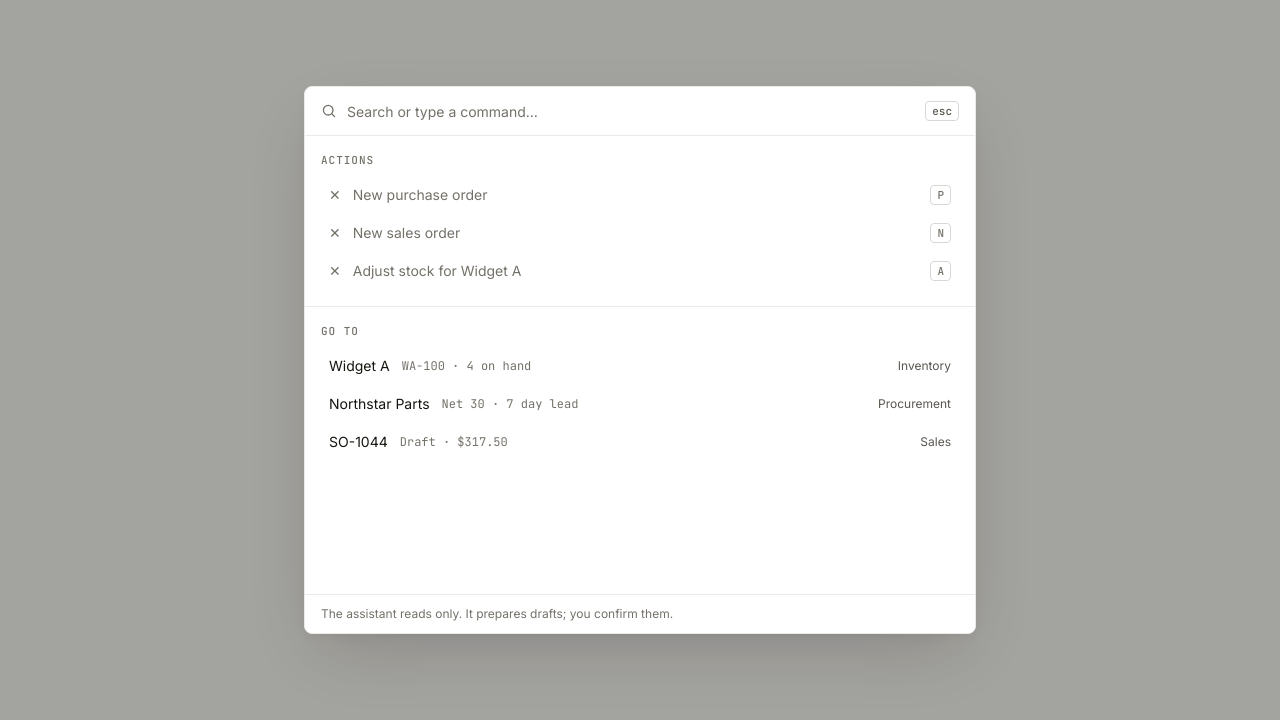
Scenario: CommandBar › switches into ask mode as soon as something is typed
Type "reorder" into the field named "Search or ask" at (631, 111), box [347, 87, 915, 135]
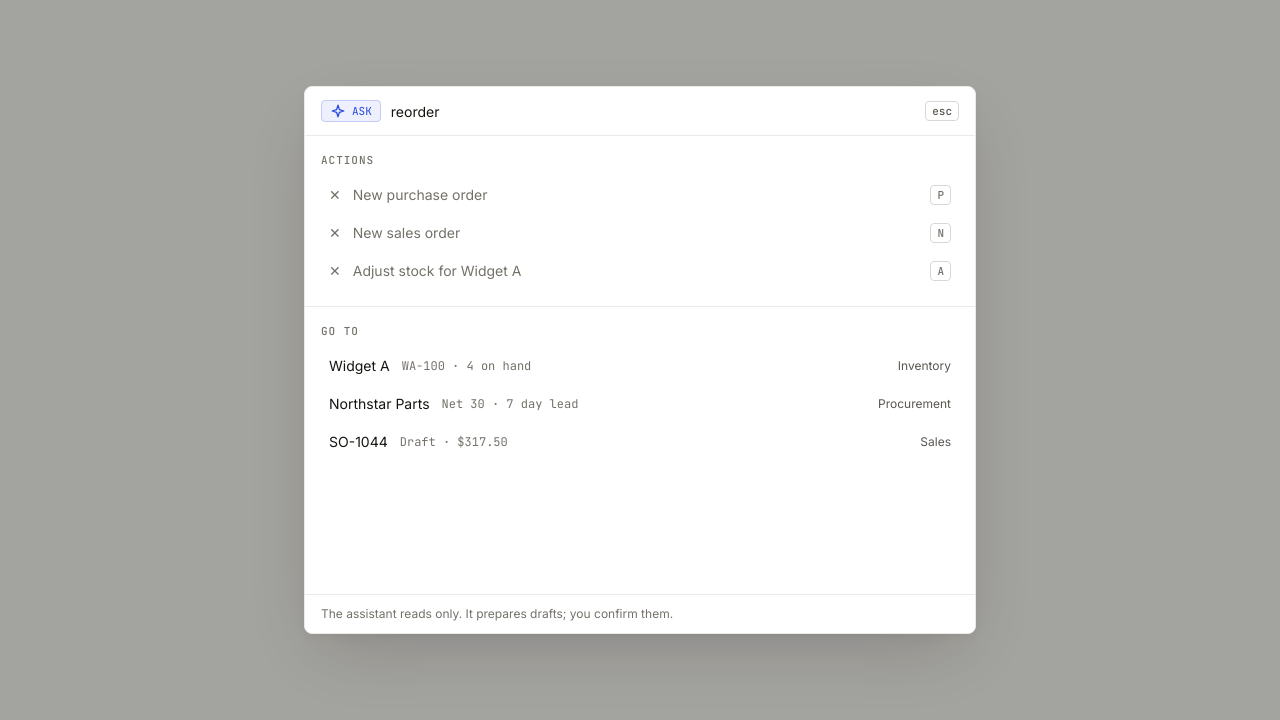
Result: the text "ASK" is shown at [321, 100, 381, 122]
